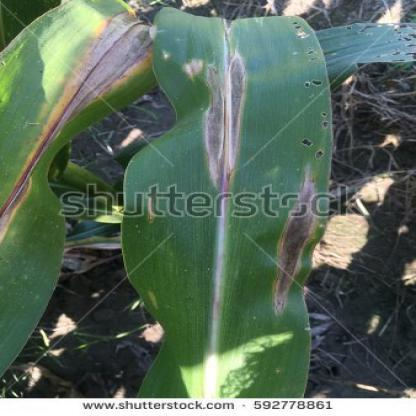Corn leaf blight: (126, 9, 322, 391), (2, 20, 152, 342)
